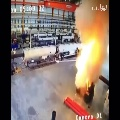fire: (75, 40, 95, 88)
